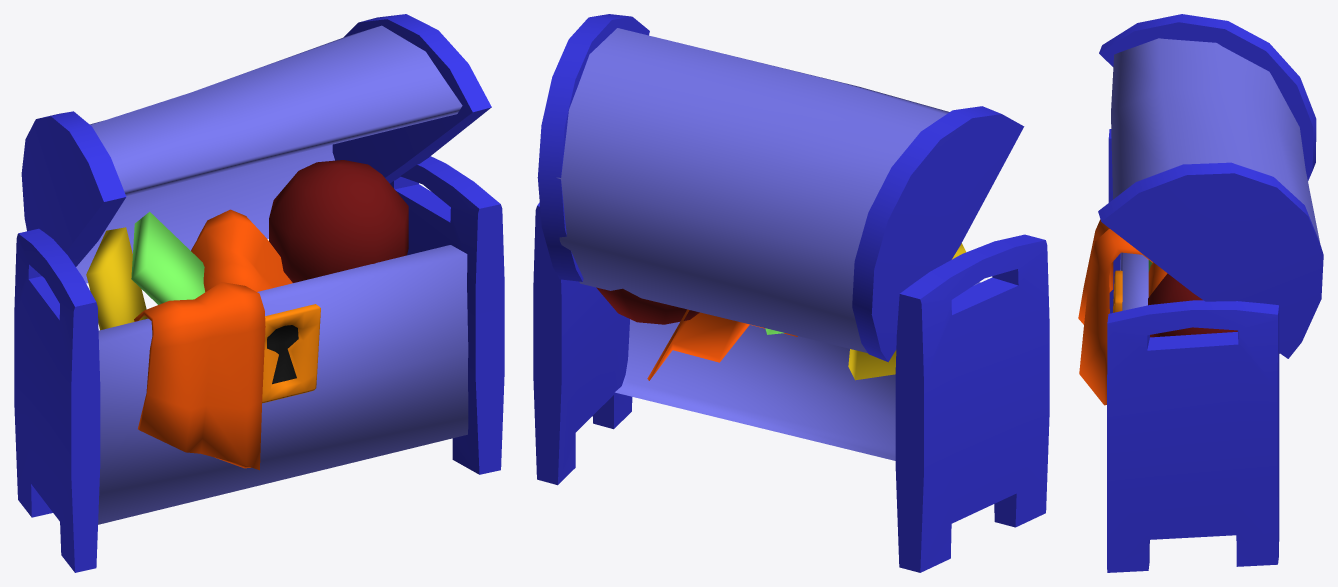
File: chest.fbx
The picture shows the model from 3 angles, left to right: view 1: azimuth 30°, elevation 25°; view 2: azimuth 150°, elevation 25°; view 3: azimuth 270°, elevation 25°; orthographic projection. The views are drawn at different scales.
Parts seen in each view (by area): view 1: chest; view 2: chest; view 3: chest.
Boxes of the visible parts, box(x1,y1,x2,y2) form: chest: box(14, 14, 504, 572); chest: box(533, 14, 1049, 572); chest: box(1078, 14, 1323, 572).
Size of the model in its own units: 4.74 by 4.36 by 2.49.
